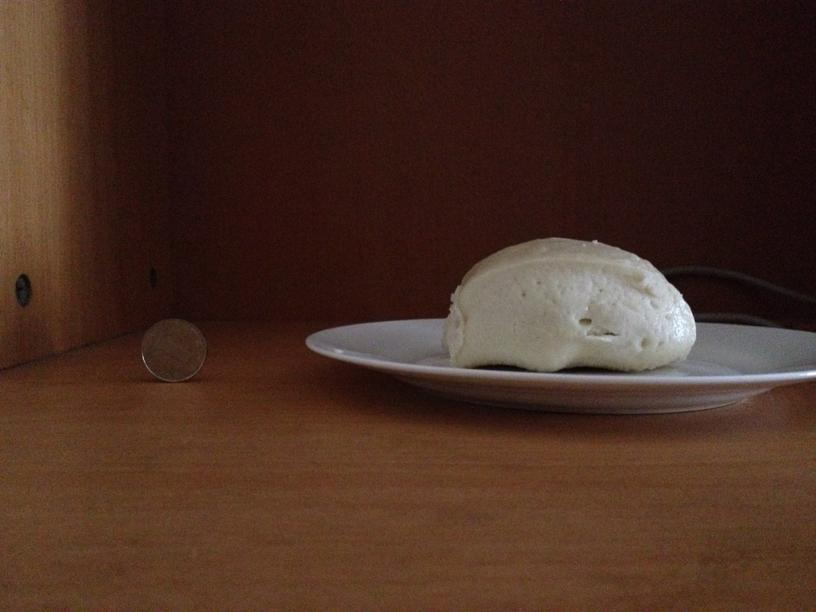bun: (441, 239, 695, 369)
coin: (139, 321, 209, 381)
